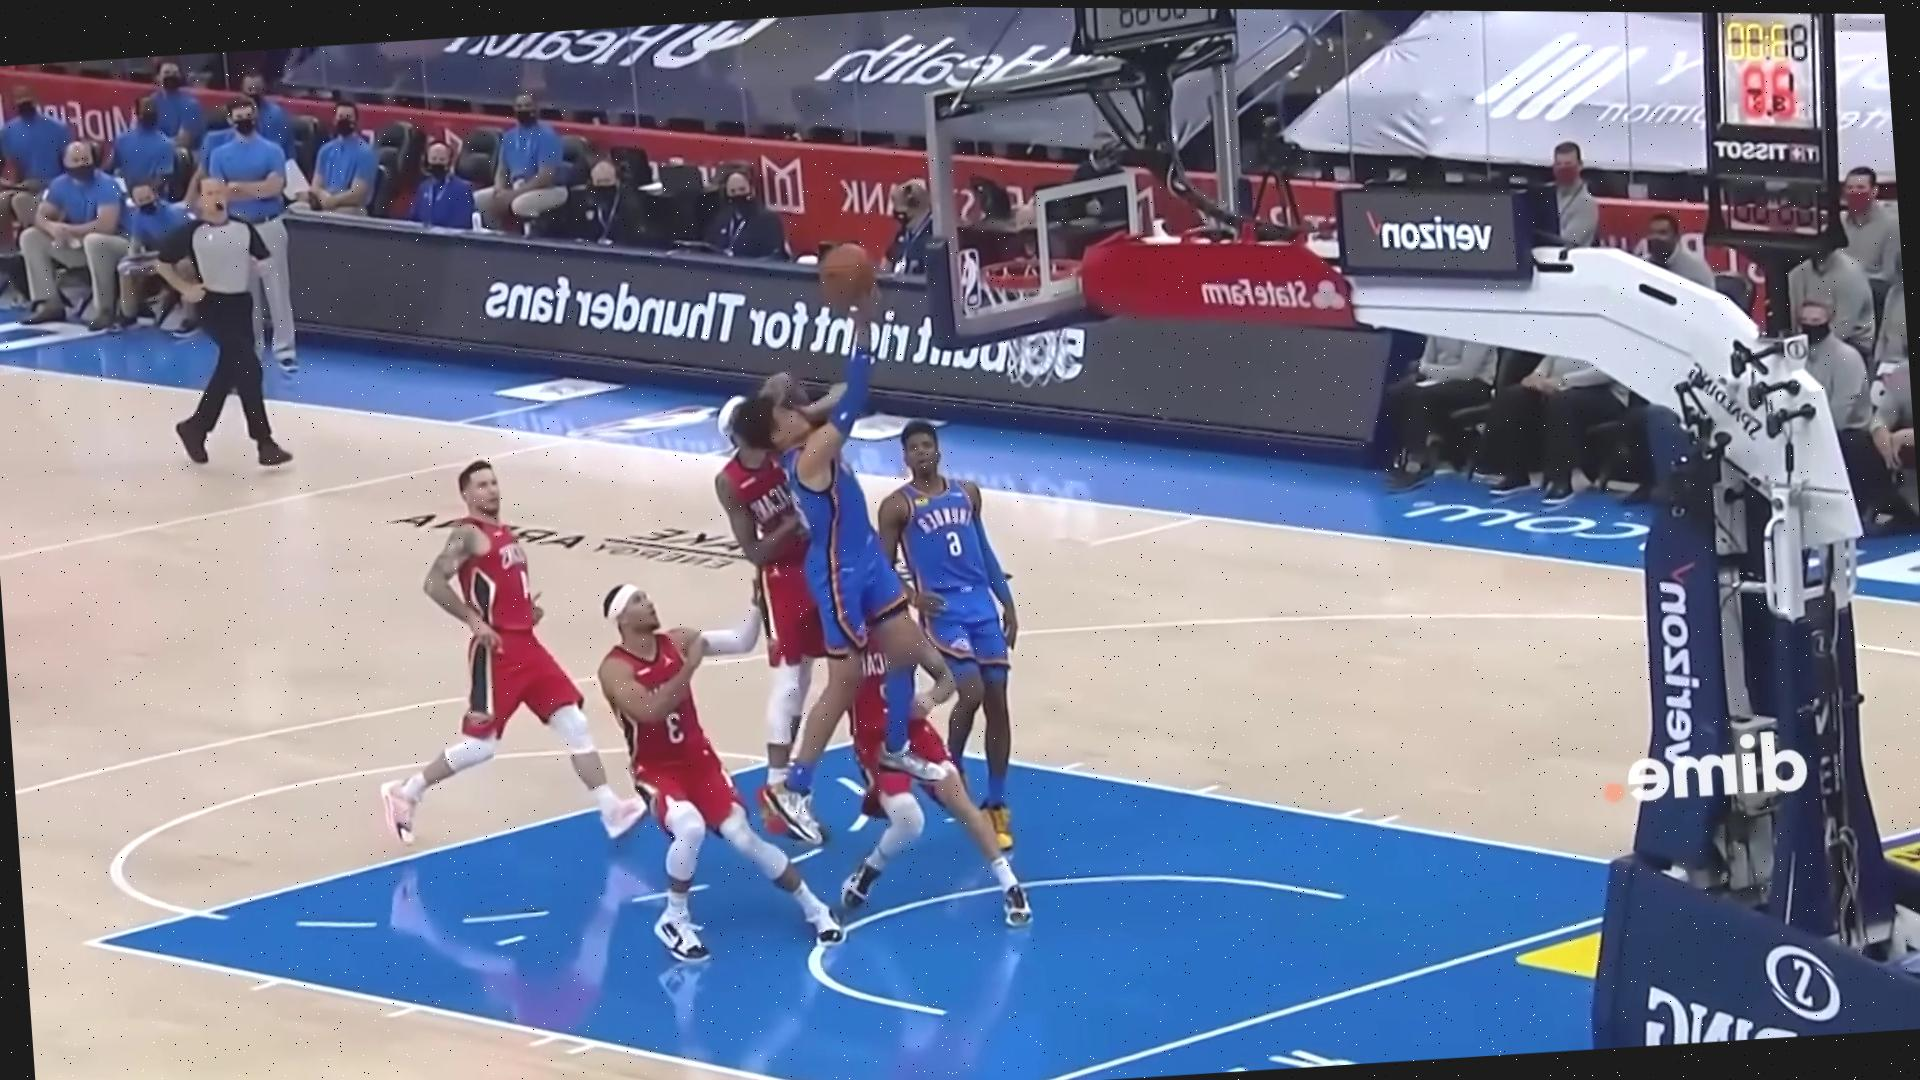no_foul: (705, 299, 932, 843)
